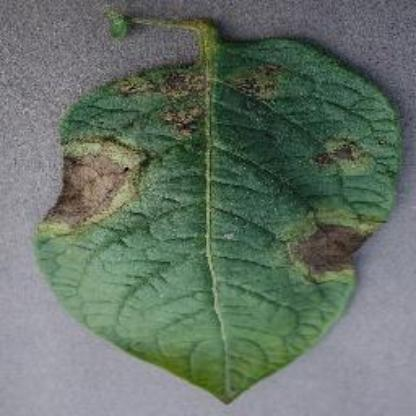Late-Blight: (35, 11, 399, 406)
